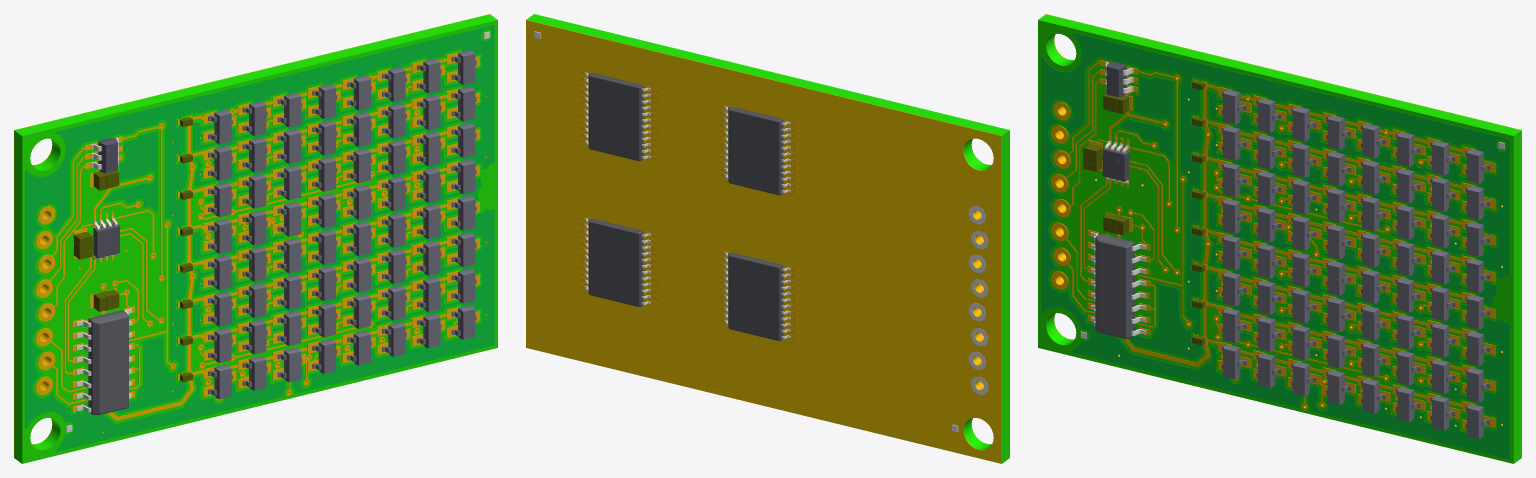
Rendered from HAL-Sensor.gltf.
3 renders of one model, left to right at view 1: azimuth 30°, elevation 25°; view 2: azimuth 150°, elevation 25°; view 3: azimuth 330°, elevation 25°, orthographic.
Visible parts, largest first — view 1: Leiterplatte, Body2, Buffer Layer (×65), Body4, Body1:76, Body1:9, Body3, Kupferlöcher, Body1:79, Body1, Body2:2; view 2: Body1:79, Leiterplatte, Body1:51, Body1:184, Body1:26, Body1:159, Body4:1, Body3:1, Kupferlöcher; view 3: Leiterplatte, Body2, Buffer Layer (×65), Body4, Body1:76, Body1:9, Body3, Kupferlöcher, Body1, Body1:79, Body2:2.
Boxes of the visible parts, bbox=[...] form: Leiterplatte: bbox=[14, 14, 497, 463]; Body2: bbox=[25, 25, 494, 451]; Buffer Layer (×65): bbox=[93, 50, 476, 399]; Body4: bbox=[72, 52, 479, 412]; Body1:76: bbox=[35, 52, 459, 420]; Body1:9: bbox=[88, 310, 128, 414]; Body3: bbox=[36, 206, 55, 395]; Kupferlöcher: bbox=[40, 77, 487, 432]; Body1:79: bbox=[14, 14, 489, 457]; Body1: bbox=[93, 223, 119, 258]; Body2:2: bbox=[98, 137, 117, 173]; Body1:79: bbox=[526, 20, 1001, 463]; Leiterplatte: bbox=[526, 14, 1009, 463]; Body1:51: bbox=[588, 218, 643, 307]; Body1:184: bbox=[588, 72, 643, 161]; Body1:26: bbox=[728, 252, 783, 341]; Body1:159: bbox=[728, 106, 783, 195]; Body4:1: bbox=[579, 70, 797, 340]; Body3:1: bbox=[968, 206, 988, 394]; Kupferlöcher: bbox=[973, 210, 983, 389]; Leiterplatte: bbox=[1038, 14, 1521, 463]; Body2: bbox=[1041, 32, 1510, 459]; Buffer Layer (×65): bbox=[1083, 89, 1490, 438]; Body4: bbox=[1087, 60, 1504, 430]; Body1:76: bbox=[1055, 60, 1475, 420]; Body1:9: bbox=[1095, 234, 1134, 339]; Body3: bbox=[1051, 102, 1070, 289]; Kupferlöcher: bbox=[1055, 77, 1502, 426]; Body1: bbox=[1102, 146, 1129, 181]; Body1:79: bbox=[1046, 14, 1521, 457]; Body2:2: bbox=[1106, 61, 1126, 97].
Size of the model in its own units: 0.0521 by 0.0343 by 0.00418.
